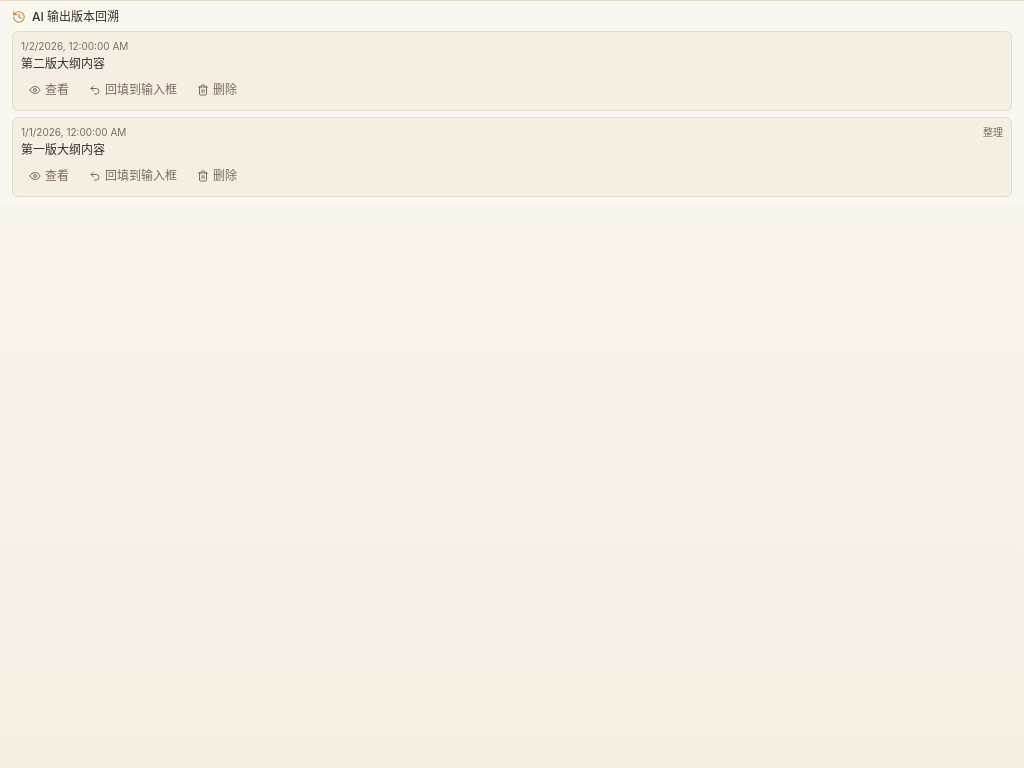
AiOutputHistoryPanel › should show full content in a dialog when viewing a version
Click the button with test id "ai-output-history-view". click: (49, 90)
box: [21, 76, 77, 104]
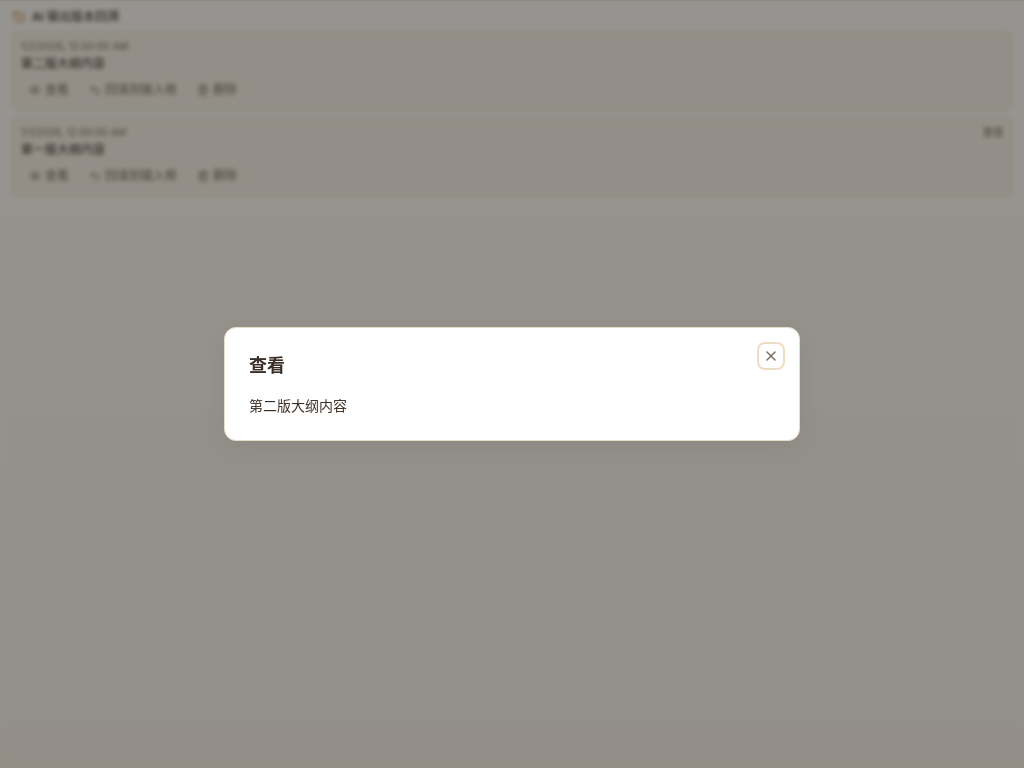
Check: the text with test id "ai-output-history-detail" reads "第二版大纲内容", box [249, 397, 347, 414]
